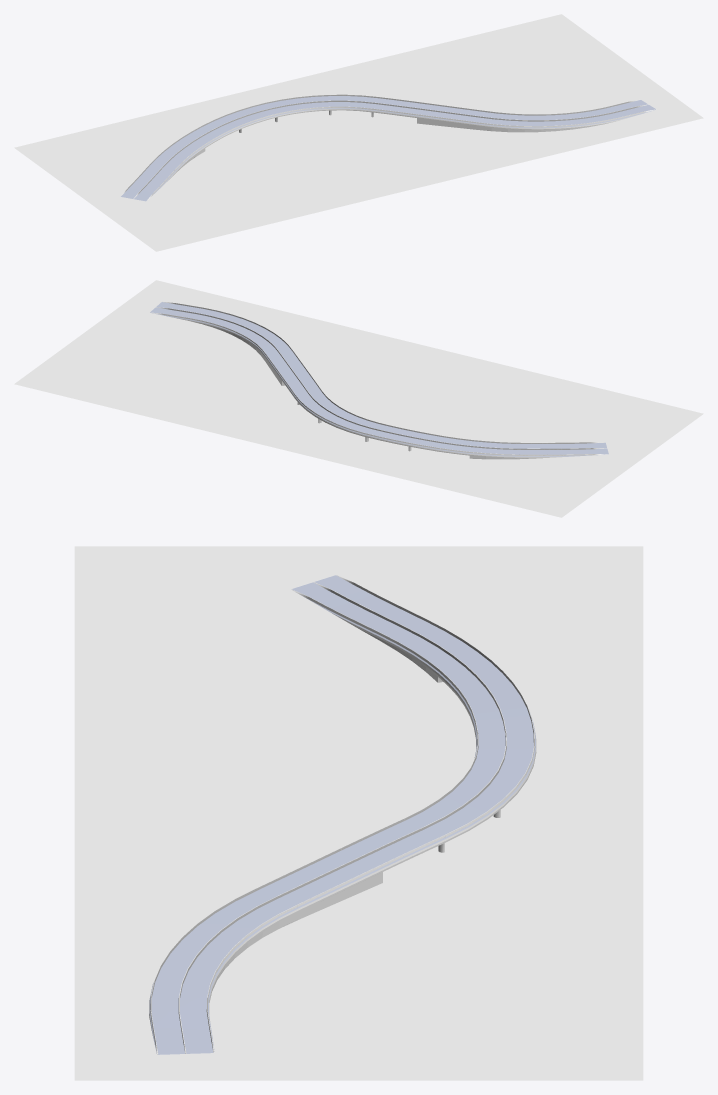
Rendered from Zhandosova-Satpaeva.glb.
3 views of the same model, one above another, from view 1: azimuth 30°, elevation 25°; view 2: azimuth 150°, elevation 25°; view 3: azimuth 270°, elevation 25° (orthographic). The views are drawn at different scales.
Visible parts, largest first — view 1: group_0, group_3, group_1.001, group_1, group_1.003; view 2: group_0, group_3, group_1.001, group_1, group_1.002; view 3: group_0, group_1.001, group_1, group_3, group_1.002.
Boxes of the visible parts, left/top/right/bottom form: group_0: left=14, top=14, right=703, bottom=251; group_3: left=120, top=94, right=656, bottom=201; group_1.001: left=121, top=96, right=647, bottom=198; group_1: left=134, top=102, right=655, bottom=201; group_1.003: left=153, top=108, right=655, bottom=194; group_0: left=14, top=280, right=703, bottom=517; group_3: left=150, top=301, right=608, bottom=459; group_1.001: left=150, top=307, right=608, bottom=454; group_1: left=156, top=302, right=606, bottom=448; group_1.002: left=150, top=312, right=604, bottom=456; group_0: left=74, top=546, right=643, bottom=1080; group_1.001: left=180, top=575, right=533, bottom=1053; group_1: left=151, top=582, right=505, bottom=1054; group_3: left=149, top=575, right=536, bottom=1054; group_1.002: left=208, top=710, right=535, bottom=1051.
Size of the model in its own units: 505 by 9.23 by 227.
4 materials, 3 textured.
